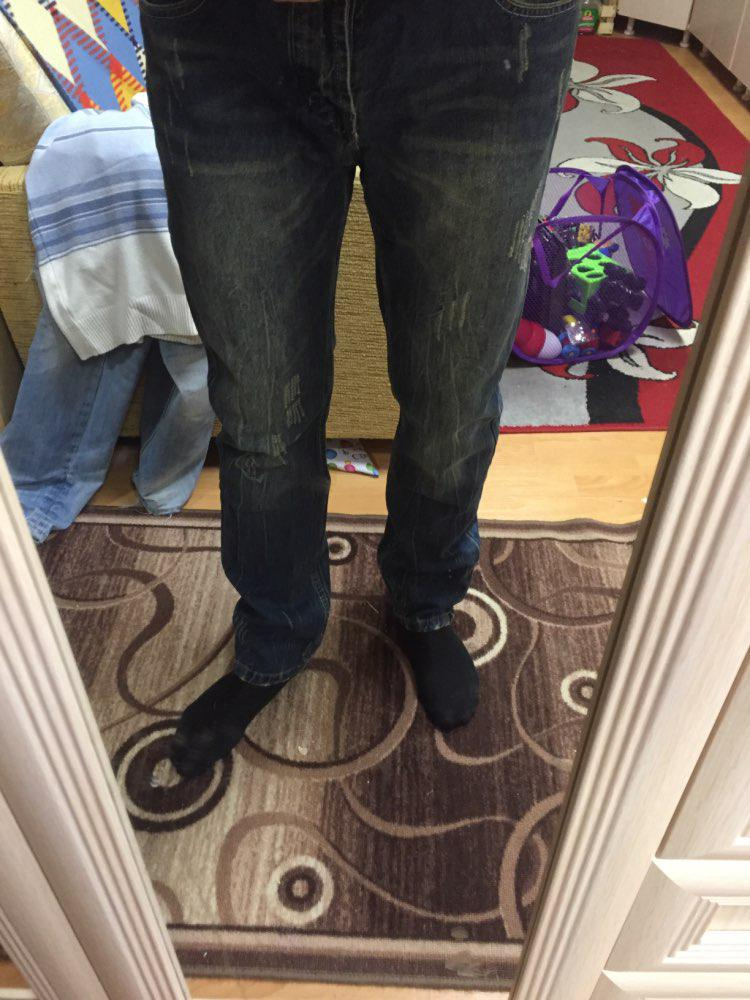jeans: (140, 10, 566, 656)
